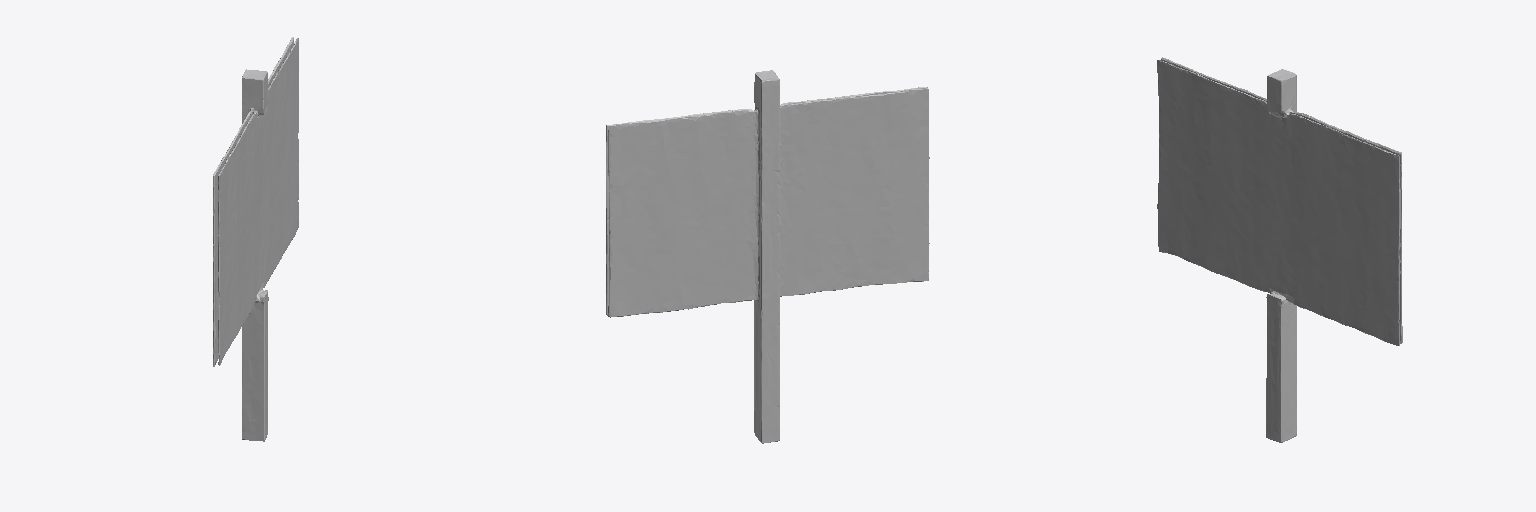
Rendered from sign.obj.
3 renders of one model, left to right at view 1: azimuth 30°, elevation 25°; view 2: azimuth 150°, elevation 25°; view 3: azimuth 270°, elevation 25°, orthographic.
Visible parts, largest first — view 1: Mesh1; view 2: Mesh1; view 3: Mesh1.
Boxes of the visible parts, x1,y1,x2,y2 form: Mesh1: [213, 37, 298, 441]; Mesh1: [606, 70, 929, 443]; Mesh1: [1157, 57, 1402, 442].
Size of the model in its own units: 1.18 by 2 by 1.23.